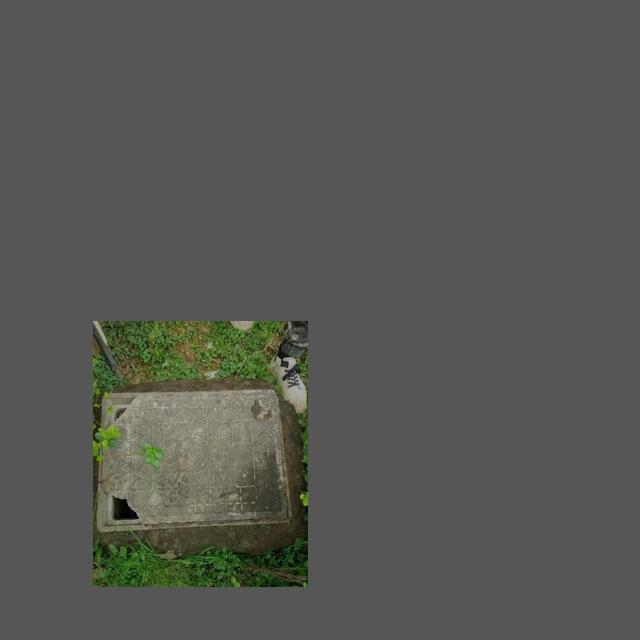broke: (100, 393, 289, 522)
